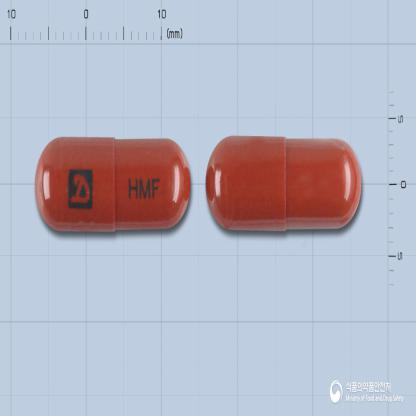pill: (33, 134, 192, 233), (204, 134, 362, 233)
